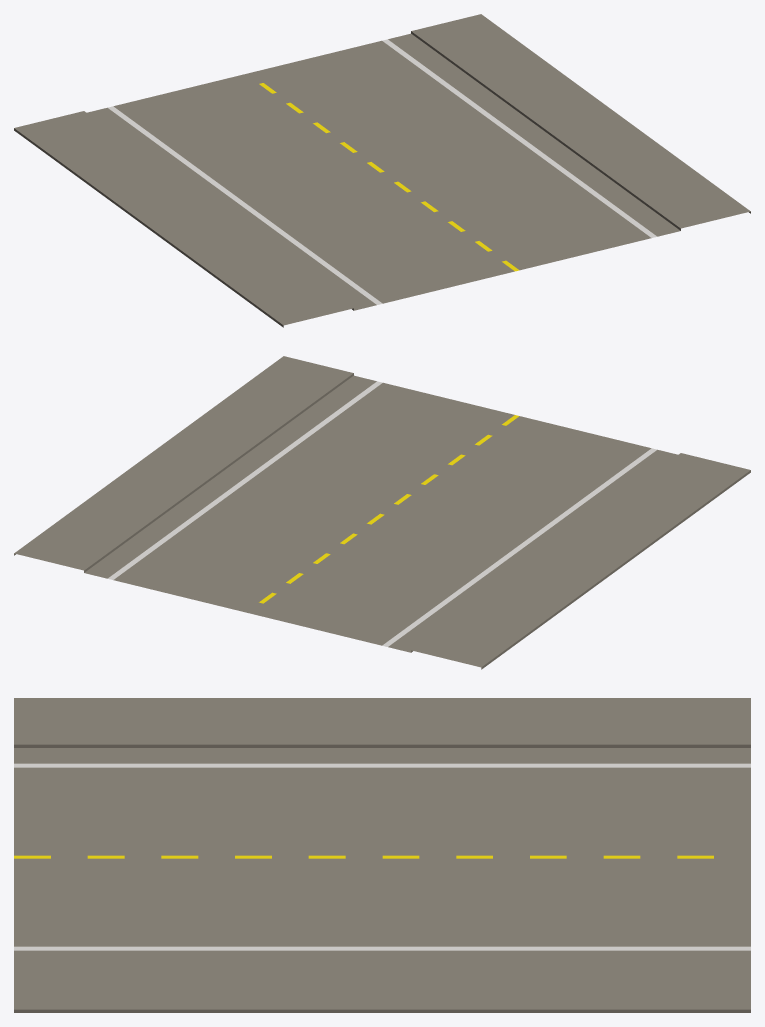
File: straight_1.fbx
3 views of the same model, one above another, from view 1: azimuth 30°, elevation 25°; view 2: azimuth 150°, elevation 25°; view 3: azimuth 270°, elevation 25° (orthographic). The views are drawn at different scales.
Visible parts, largest first — view 1: Straight; view 2: Straight; view 3: Straight.
Part boxes in pixels (bbox=[...]): Straight: bbox=[14, 14, 750, 327]; Straight: bbox=[14, 356, 750, 669]; Straight: bbox=[14, 698, 750, 1012].
Size of the model in its own units: 20 by 0.1 by 20.
